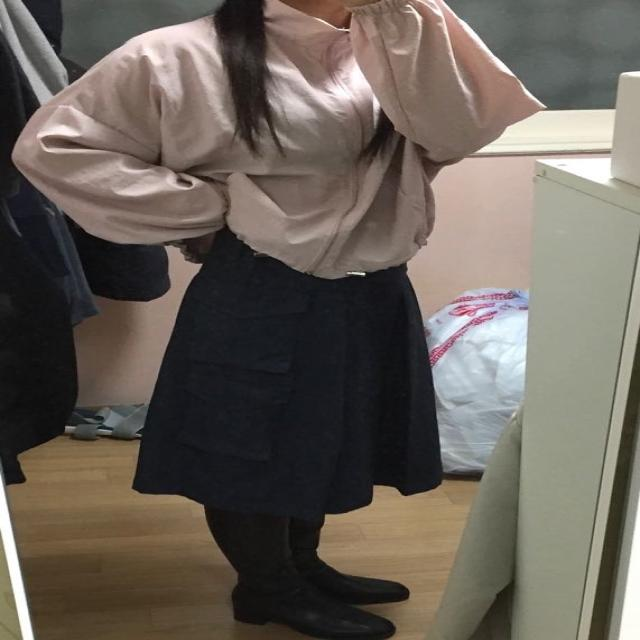jacket: (11, 0, 543, 277)
skirt: (132, 232, 444, 520)
